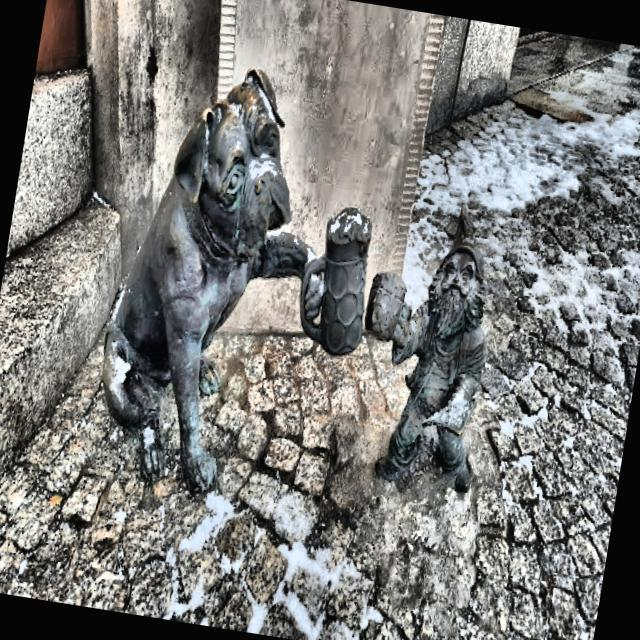Piwozlopek_ i_Piesel_Piwosz: (102, 69, 370, 491), (365, 208, 486, 492)
